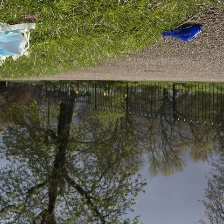plastic_bag: (155, 18, 207, 49)
